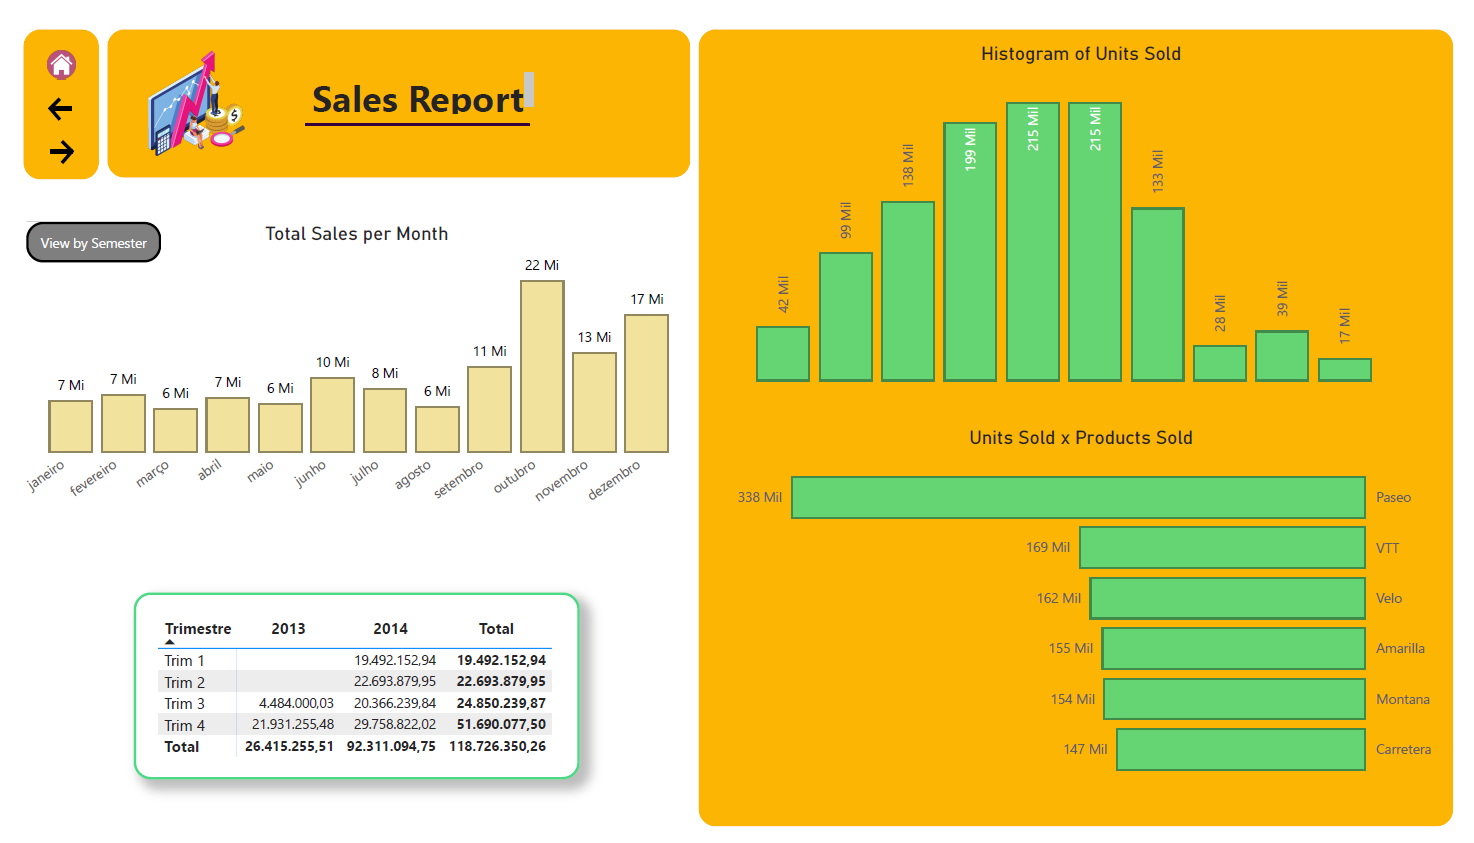

What the dashboard file says about the page in this screenshot:
{"tool":"powerbi","page":{"name":"Details","canvas":[1280,720],"ordinal":2},"visuals":[{"type":"shape","box":[85,10,515,130.8],"z":0,"group":"g3"},{"type":"shape","box":[607.5,10,666.7,704.2],"z":0},{"type":"shape","box":[259.5,77.5,198.5,32.5],"z":0,"group":"g1"},{"type":"group","id":"g1","title":"Title","box":[105.7,24.2,361.1,101.7],"z":500,"group":"g3"},{"type":"shape","box":[10.8,10,66.7,132.5],"z":1000,"group":"g4"},{"type":"clusteredColumnChart","title":"Histogram of Units Sold","fields":{"Category":["financials.Buckets"],"Y":["Sum(financials.Units Sold)"]},"box":[620.8,20.8,639.2,310.8],"z":1000},{"type":"textbox","box":[261,43.2,205.8,45.8],"z":1000,"group":"g1"},{"type":"image","box":[105.7,24.2,115.7,101.7],"z":1500,"group":"g1"},{"type":"actionButton","title":"Botão - Next","box":[29.1,103.3,30,30],"z":1500,"group":"g4"},{"type":"columnChart","title":"Total Sales per Month","fields":{"Y":["Sum(financials. Sales)"],"Category":["financials.Date.Variation.Hierarquia de datas.Mês"]},"box":[10.8,180,589.2,265],"z":1500,"group":"g2"},{"type":"actionButton","title":"Botão - Back","box":[29.1,65.8,29.2,30],"z":1750,"group":"g4"},{"type":"image","box":[26.6,20.8,35,41.7],"z":2000,"group":"g4"},{"type":"pivotTable","fields":{"Rows":["financials.Date.Variation.Hierarquia de datas.Trimestre"],"Columns":["financials.Date.Variation.Hierarquia de datas.Ano"],"Values":["Sum(financials. Sales)"]},"box":[108.3,507.5,394.2,165],"z":2000},{"type":"actionButton","title":"Botão - Home","box":[31.6,25.8,24.2,26.7],"z":3000,"group":"g4"},{"type":"group","id":"g2","title":"Sales x Time","box":[10.8,180,589.2,265],"z":3000},{"type":"group","id":"g3","title":"Home","box":[85,10,515,130.8],"z":4000},{"type":"actionButton","title":"Botão - By Semester","box":[13.1,180,119.2,35.8],"z":4000,"group":"g2"},{"type":"group","id":"g4","title":"Nav","box":[10.8,10,66.7,132.5],"z":5000},{"type":"clusteredBarChart","title":" Units Sold x Products Sold","fields":{"Y":["Sum(financials.Units Sold)"],"Category":["financials.Product"]},"box":[620.8,360,639.2,333.3],"z":6000}]}

Visuals, with their boxes in screenshot pixels (x1, y1, x2, y2), scaled from the page's 1280x720 canvas onto the 1474x843 screenshot:
shape: BBox(98, 12, 691, 165)
shape: BBox(700, 12, 1467, 836)
shape: BBox(299, 91, 527, 129)
"Title" group: BBox(122, 28, 538, 147)
shape: BBox(12, 12, 89, 167)
"Histogram of Units Sold" clusteredColumnChart: BBox(715, 24, 1451, 388)
textbox: BBox(301, 51, 538, 104)
image: BBox(122, 28, 255, 147)
"Botão - Next" actionButton: BBox(34, 121, 68, 156)
"Total Sales per Month" columnChart: BBox(12, 211, 691, 521)
"Botão - Back" actionButton: BBox(34, 77, 67, 112)
image: BBox(31, 24, 71, 73)
pivotTable - financials.Date.Variation.Hierarquia de datas.Trimestre x financials.Date.Variation.Hierarquia de datas.Ano: BBox(125, 594, 579, 787)
"Botão - Home" actionButton: BBox(36, 30, 64, 61)
"Sales x Time" group: BBox(12, 211, 691, 521)
"Home" group: BBox(98, 12, 691, 165)
"Botão - By Semester" actionButton: BBox(15, 211, 152, 253)
"Nav" group: BBox(12, 12, 89, 167)
" Units Sold x Products Sold" clusteredBarChart: BBox(715, 422, 1451, 812)
